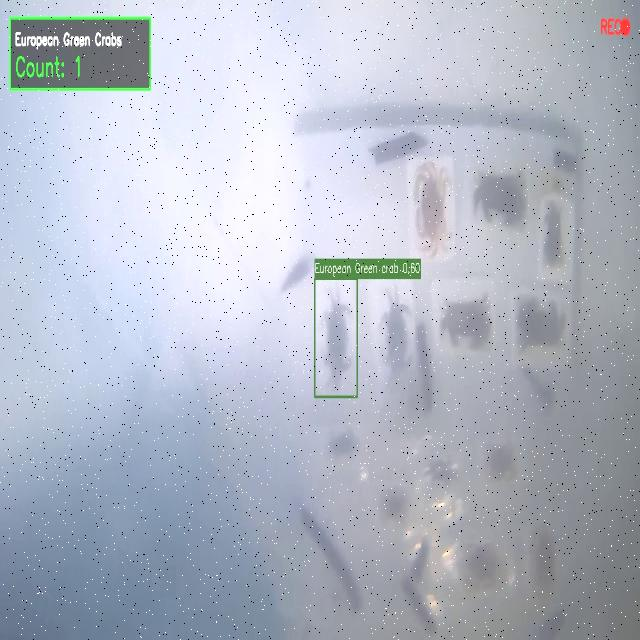European_Green_Crab: (372, 278, 417, 389), (321, 285, 354, 389), (323, 424, 362, 466), (425, 454, 458, 488)
